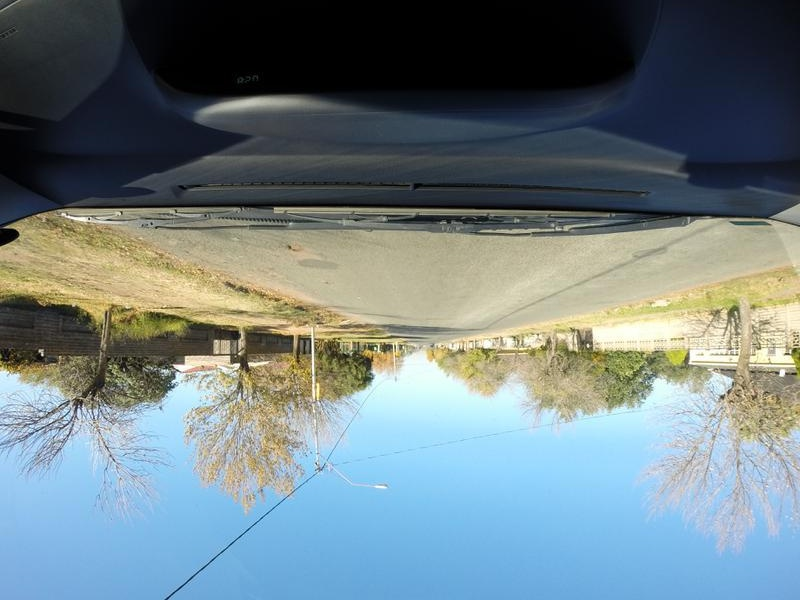pothole: (283, 244, 309, 255)
